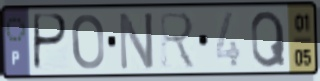4: (213, 9, 243, 70)
N: (117, 10, 156, 73)
O: (69, 12, 107, 72)
P: (31, 12, 70, 74)
Q: (249, 8, 288, 70)
R: (157, 10, 199, 71)
